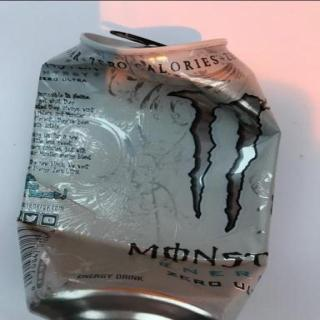Anorganik: (22, 34, 288, 316)
